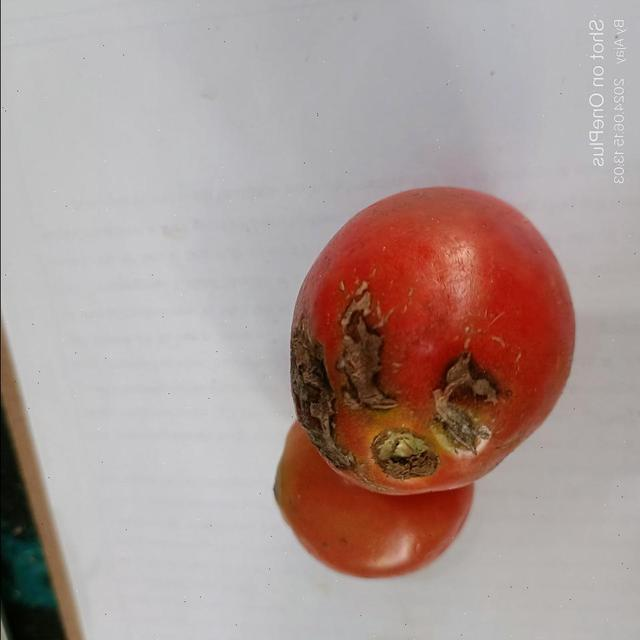Bacterial Spot Fruit: (26, 35, 311, 303)
